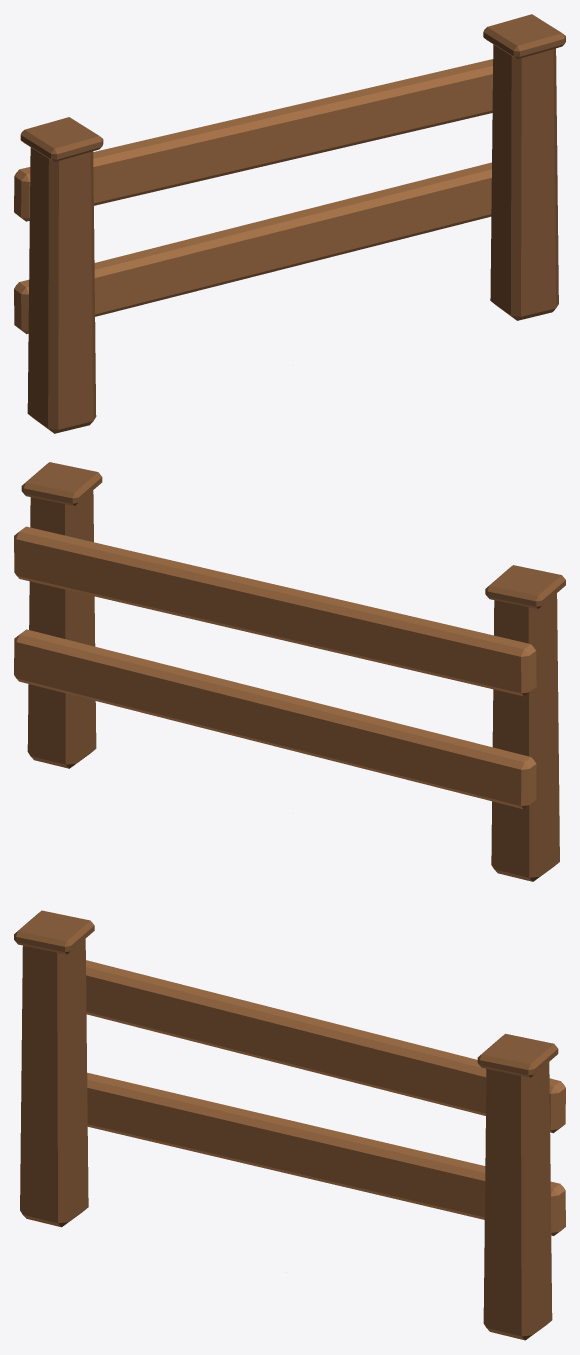
Rendered from fence.glb.
The picture shows the model from 3 angles, top to bottom: view 1: azimuth 30°, elevation 25°; view 2: azimuth 150°, elevation 25°; view 3: azimuth 330°, elevation 25°; orthographic projection.
Parts seen in each view (by area): view 1: WoodPlanks__A06C42, Wood__8A5C38; view 2: WoodPlanks__A06C42, Wood__8A5C38; view 3: WoodPlanks__A06C42, Wood__8A5C38.
Part boxes in pixels (x1,y1,x2,y2): WoodPlanks__A06C42: (14, 59, 493, 334); Wood__8A5C38: (20, 14, 565, 433); WoodPlanks__A06C42: (14, 526, 536, 809); Wood__8A5C38: (21, 462, 565, 881); WoodPlanks__A06C42: (86, 960, 565, 1235); Wood__8A5C38: (14, 910, 558, 1340).
Bounding box in the file's own units: 8.1 × 4.3 × 1.12.
